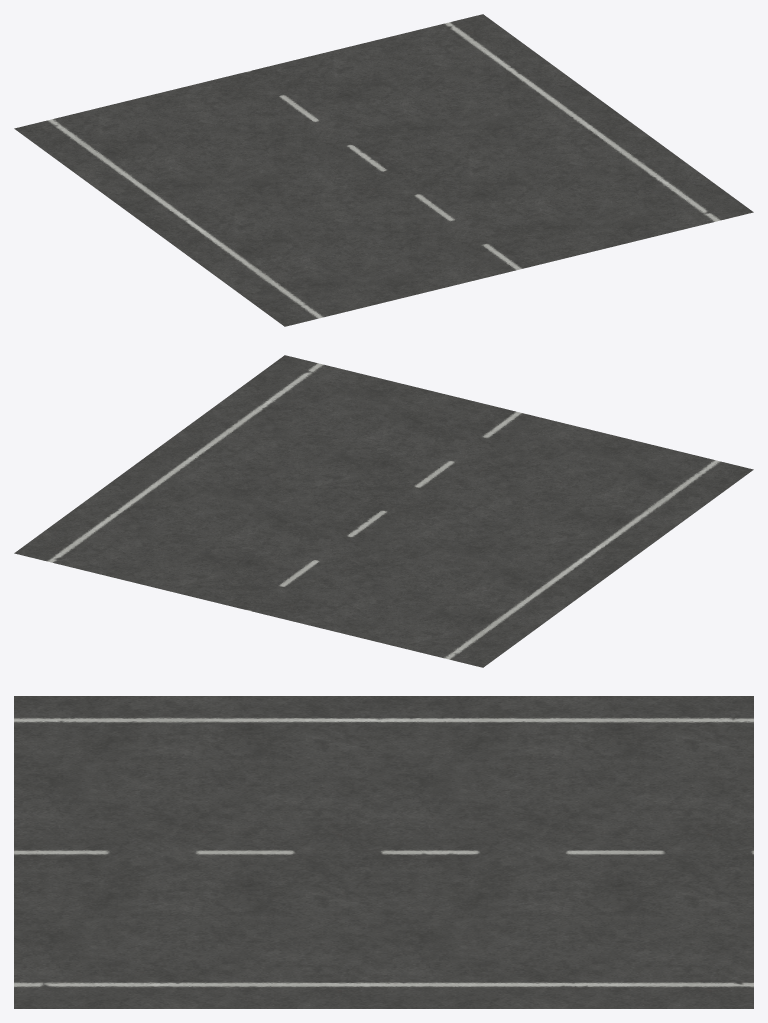
Rendered from road.obj.
The picture shows the model from 3 angles, top to bottom: view 1: azimuth 30°, elevation 25°; view 2: azimuth 150°, elevation 25°; view 3: azimuth 270°, elevation 25°; orthographic projection. The views are drawn at different scales.
Size of the model in its own units: 10 by 0 by 10.
Materials: 1 (1 with a texture image).
